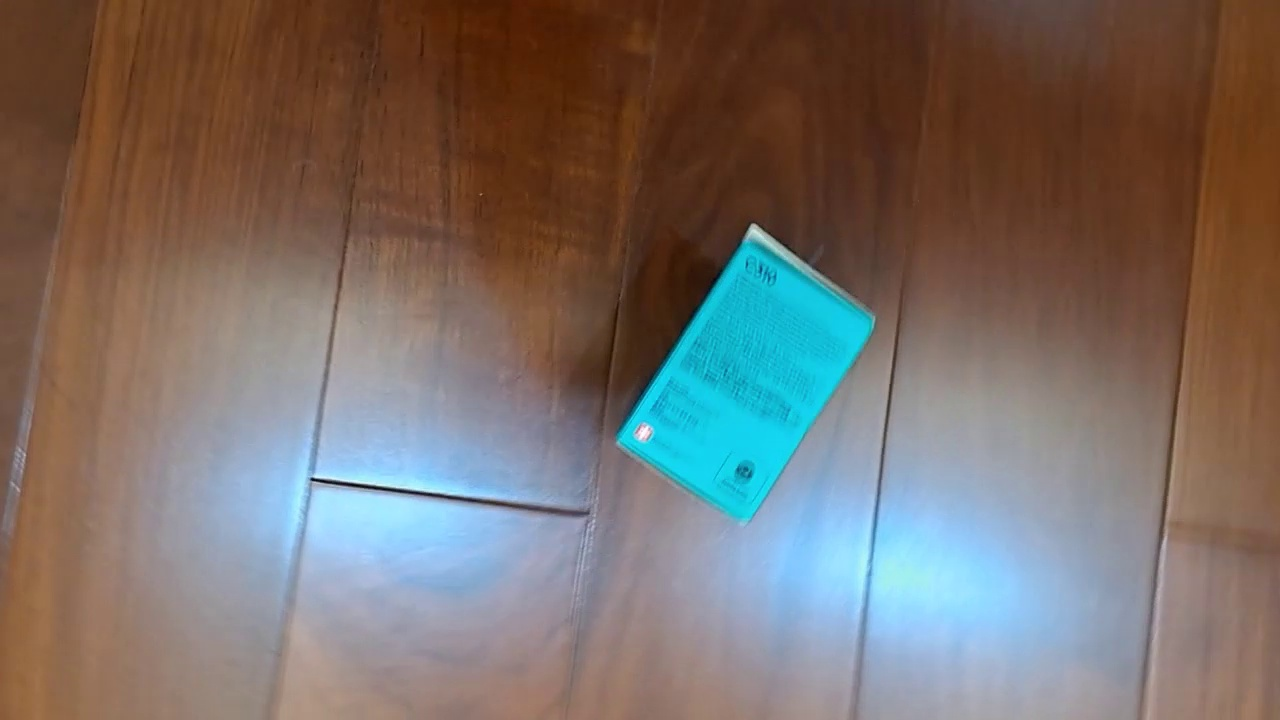webcam: (612, 221, 879, 530)
